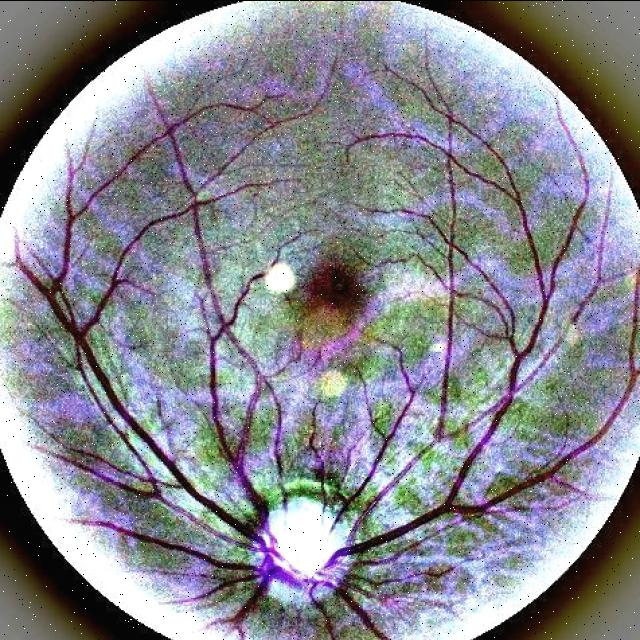Macula: (306, 264, 368, 323)
Nerves: (9, 119, 640, 640)
Optic Disk: (261, 496, 347, 601)
